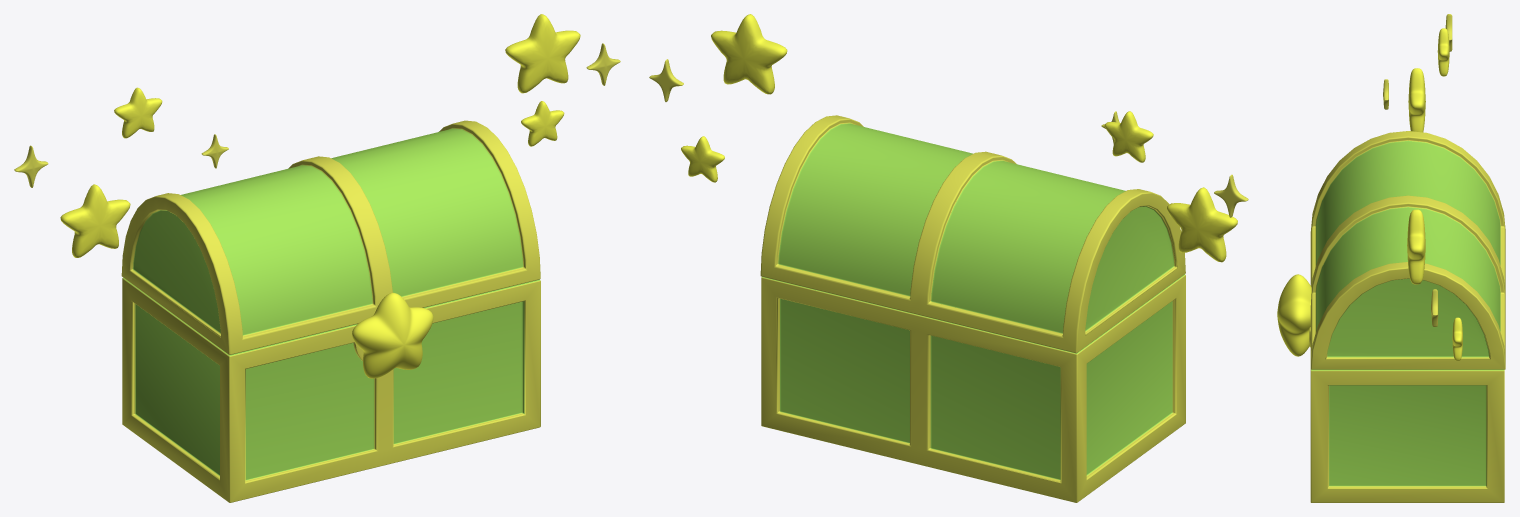
3 views of the same model, side by side, from view 1: azimuth 30°, elevation 25°; view 2: azimuth 150°, elevation 25°; view 3: azimuth 270°, elevation 25° (orthographic). The views are drawn at different scales.
Parts seen in each view (by area): view 1: Cylinder, Cube, star_ornament.002, Circle.001, Circle, Circle.003, Circle.002; view 2: Cylinder, Cube, Circle.001, Circle, Circle.003, Circle.002; view 3: Cylinder, Cube, star_ornament.002, Circle.001, Circle, Circle.003, Circle.002, Cube.002.
Boxes of the visible parts, bbox=[...] form: Cylinder: bbox=[121, 120, 540, 354]; Cube: bbox=[122, 277, 540, 502]; star_ornament.002: bbox=[352, 292, 433, 378]; Circle.001: bbox=[505, 14, 580, 93]; Circle: bbox=[60, 184, 130, 257]; Circle.003: bbox=[114, 87, 162, 138]; Circle.002: bbox=[521, 101, 564, 146]; Cylinder: bbox=[760, 115, 1185, 353]; Cube: bbox=[761, 274, 1185, 502]; Circle.001: bbox=[711, 14, 787, 94]; Circle: bbox=[1167, 187, 1237, 262]; Circle.003: bbox=[1104, 111, 1153, 162]; Circle.002: bbox=[681, 136, 724, 182]; Cylinder: bbox=[1310, 131, 1505, 369]; Cube: bbox=[1310, 369, 1504, 502]; star_ornament.002: bbox=[1277, 274, 1311, 356]; Circle.001: bbox=[1407, 209, 1425, 284]; Circle: bbox=[1408, 68, 1425, 132]; Circle.003: bbox=[1437, 28, 1449, 76]; Circle.002: bbox=[1452, 317, 1462, 360]; Cube.002: bbox=[1431, 289, 1438, 326].
Size of the model in its own units: 1.32 by 0.7731 by 0.4852.
